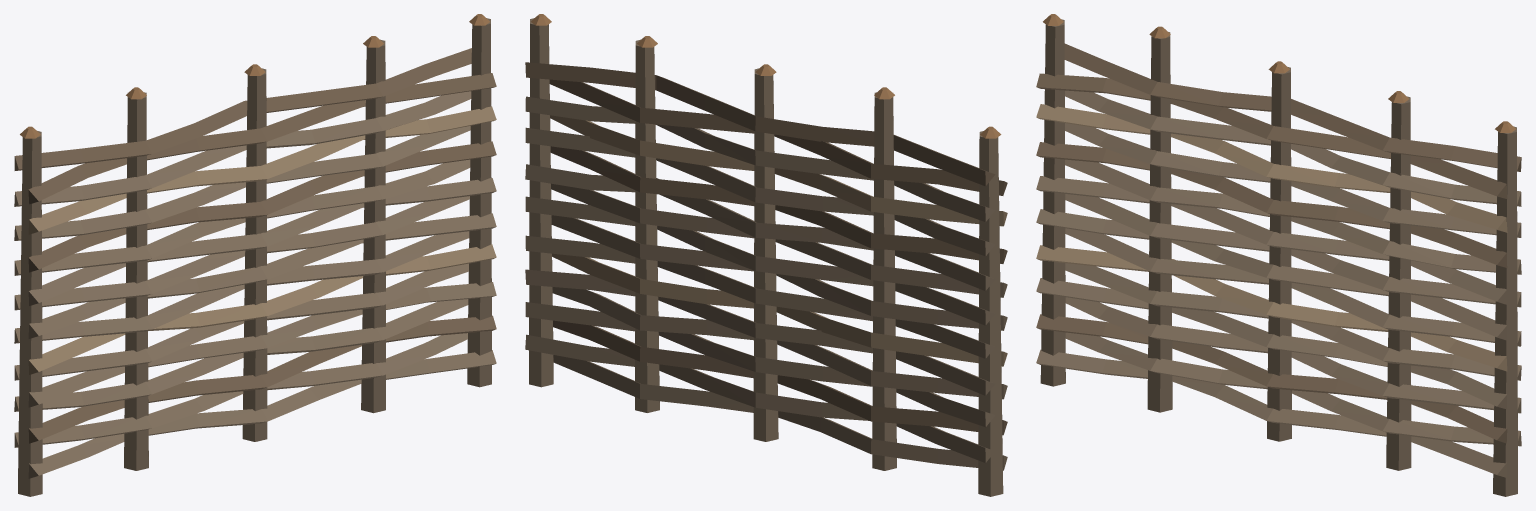
The model's file is fence_wattle.glb.
3 views of the same model, side by side, from view 1: azimuth 30°, elevation 25°; view 2: azimuth 150°, elevation 25°; view 3: azimuth 330°, elevation 25° (orthographic).
Parts seen in each view (by area): view 1: Fence_Wattle; view 2: Fence_Wattle; view 3: Fence_Wattle.
Boxes of the visible parts, x1,y1,x2,y2 form: Fence_Wattle: (14,14,496,496); Fence_Wattle: (525,14,1007,496); Fence_Wattle: (1036,14,1521,496).
Bounding box in the file's own units: 1.52 × 1.16 × 0.131.
